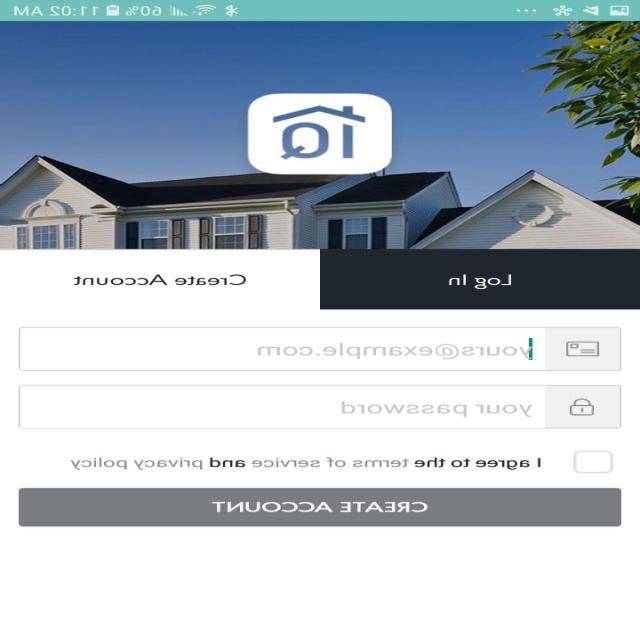EditText: (19, 326, 622, 371), (19, 384, 622, 428)
Icon: (566, 340, 600, 357), (570, 398, 594, 416)
Image: (1, 21, 640, 249), (249, 94, 393, 174)
Text: (71, 457, 541, 470), (258, 342, 532, 359), (342, 401, 532, 417), (74, 273, 248, 285)
TextButton: (20, 487, 622, 526), (320, 249, 640, 309)
